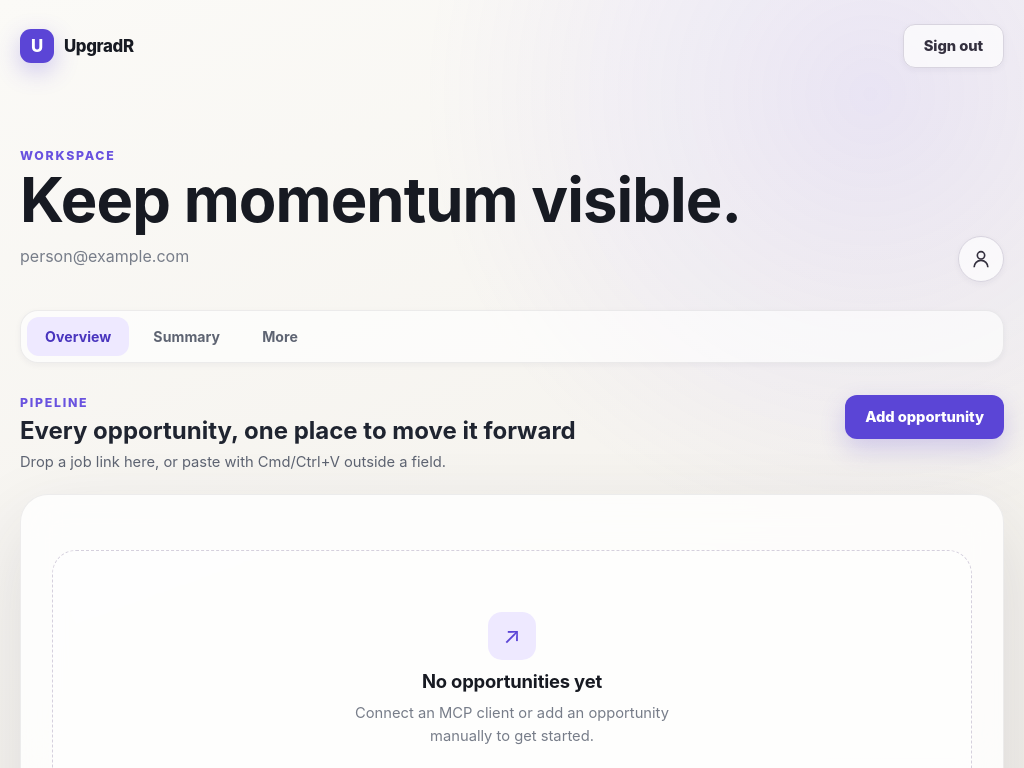
Scenario: App › opens Account from the profile menu instead of the top-level nav
This screenshot has width=1024, height=768.
Expected: the heading "Keep momentum visible." is shown, [20,171,741,230]
Expected: the navigation bar "workspace sections" does not show "account"
Click the button named "account settings menu" at (981, 259), box [958,236,1004,282]
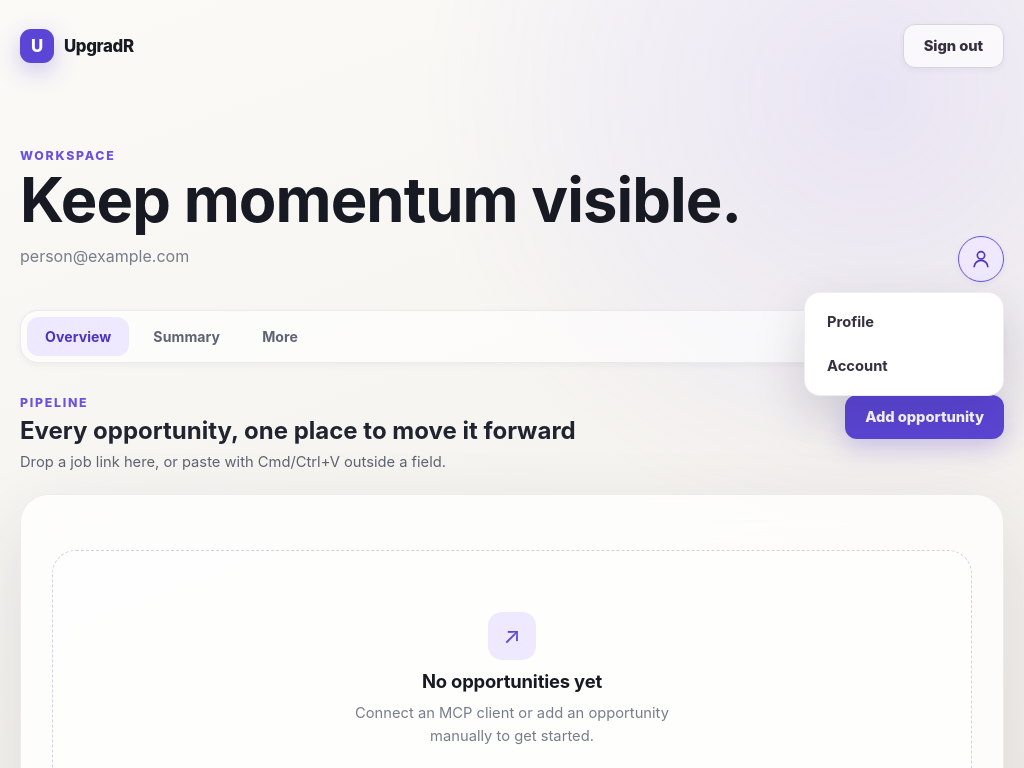
Click the menu item "Account" at (904, 366), box [813,345,995,387]
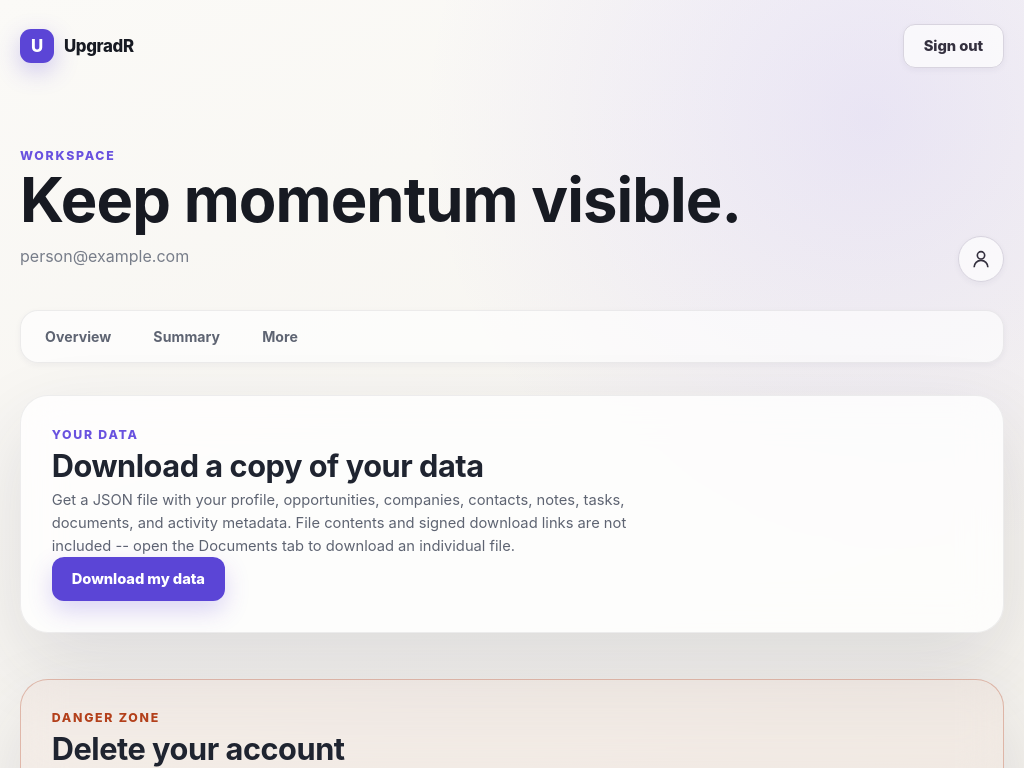
Now the heading "Delete your account" is shown, box [52,730,345,767]
Now the heading "Download a copy of your data" is shown, box [52,447,484,484]
